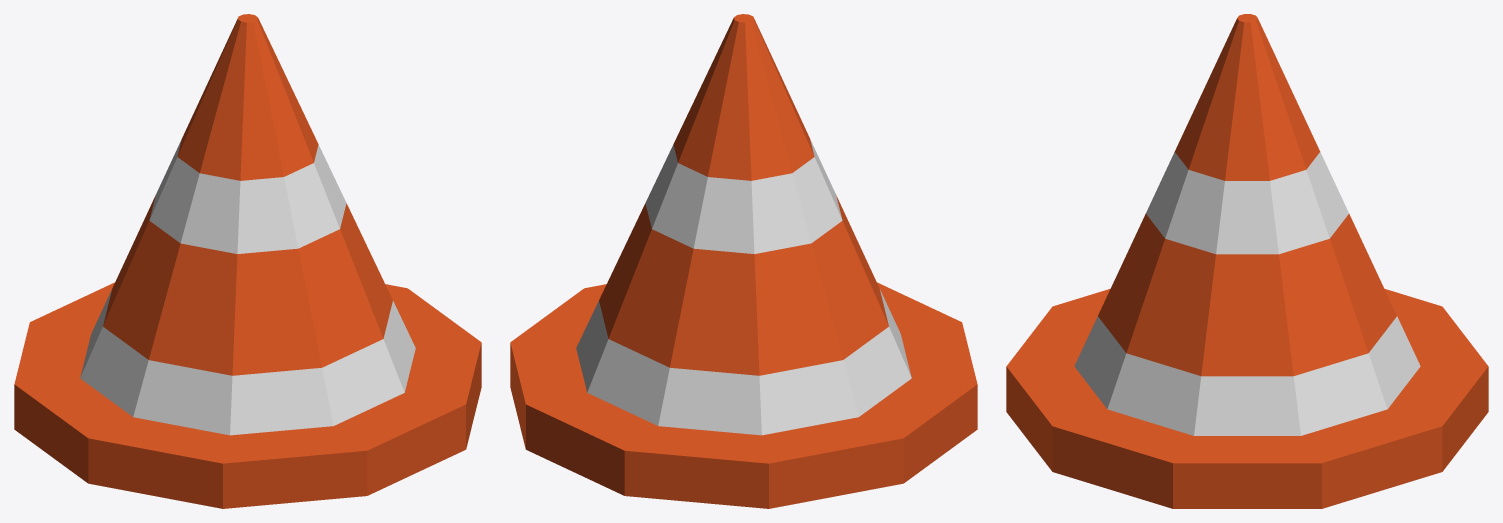
File: TrafficCone.fbx
The picture shows the model from 3 angles, left to right: view 1: azimuth 30°, elevation 25°; view 2: azimuth 150°, elevation 25°; view 3: azimuth 270°, elevation 25°; orthographic projection.
Visible parts, largest first — view 1: vlc; view 2: vlc; view 3: vlc.
Boxes of the visible parts, x1,y1,x2,y2 form: vlc: (14,14,481,508); vlc: (510,14,977,508); vlc: (1006,14,1488,508).
Size of the model in its own units: 9.41 by 8.92 by 9.9.
